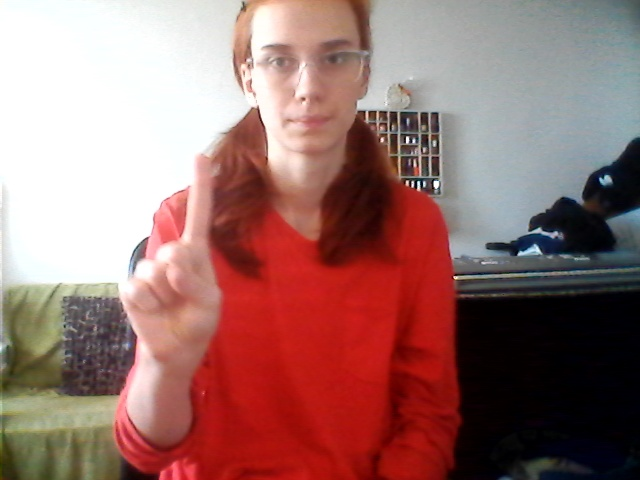i: (98, 148, 248, 363)
